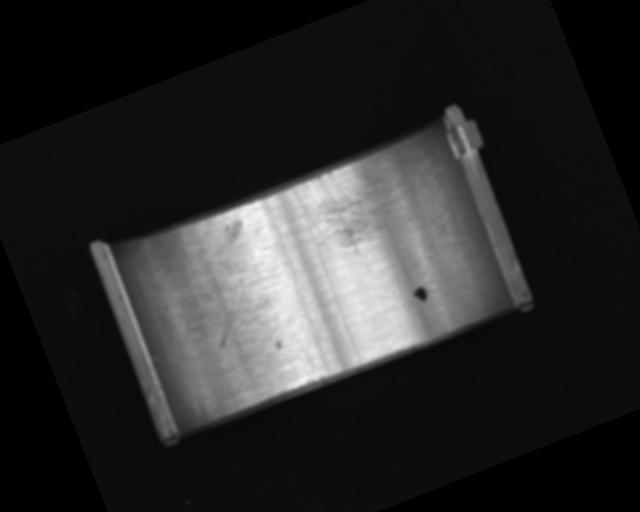blot: (411, 284, 431, 306)
bruise: (216, 217, 250, 248), (273, 338, 285, 352)
nick: (199, 277, 261, 347)
scratch: (289, 137, 445, 269)
